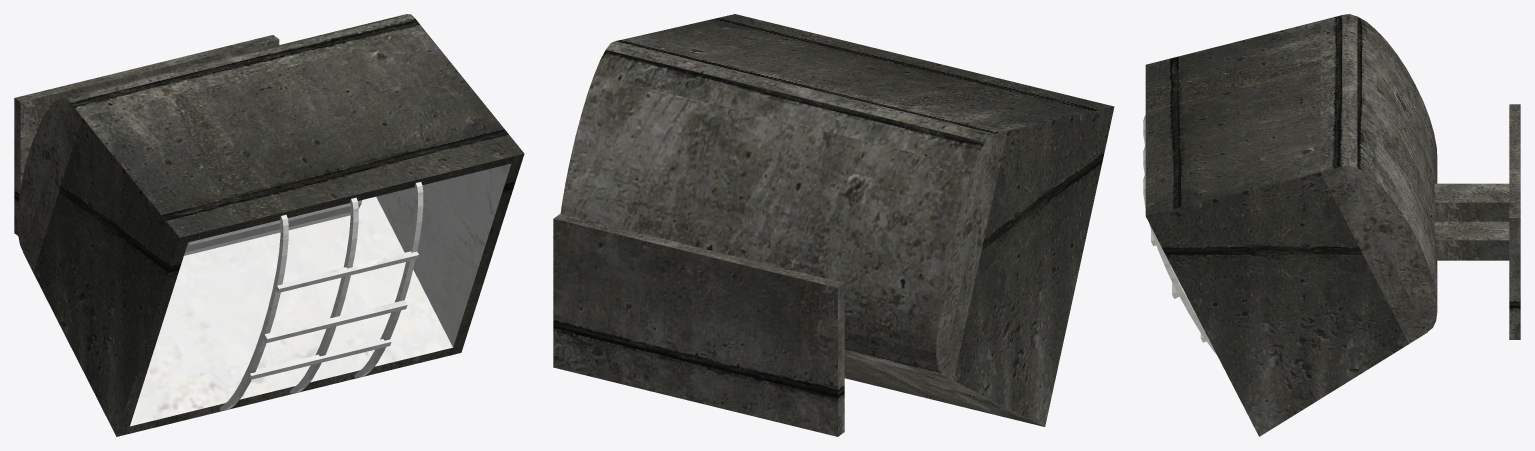
File: Lamp.fbx
3 renders of one model, left to right at view 1: azimuth 30°, elevation 25°; view 2: azimuth 150°, elevation 25°; view 3: azimuth 270°, elevation 25°, orthographic. The views are drawn at different scales.
Visible parts, largest first — view 1: Outside.001; view 2: Outside.001; view 3: Outside.001.
Boxes of the visible parts, box(x1,y1,x2,y2) form: Outside.001: box(14, 14, 524, 436); Outside.001: box(553, 14, 1114, 436); Outside.001: box(1143, 14, 1520, 436).
Size of the model in its own units: 65.43 by 54.7 by 68.88.
2 materials, 2 textured.
